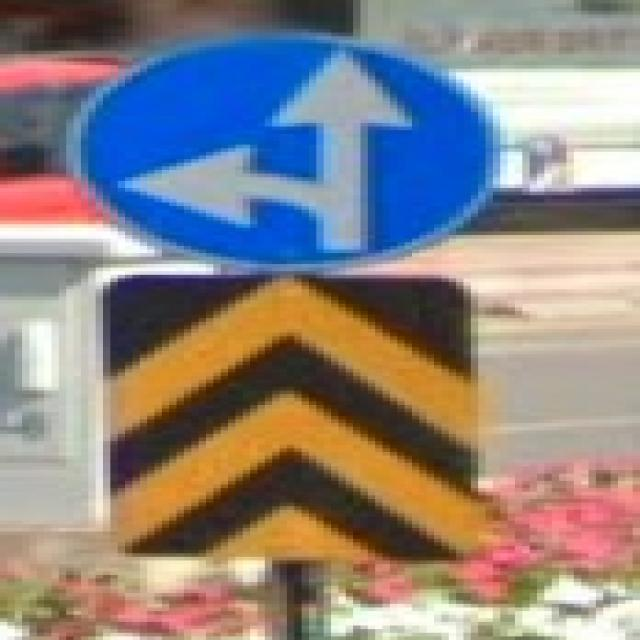Straight or Left: (67, 34, 494, 269)
